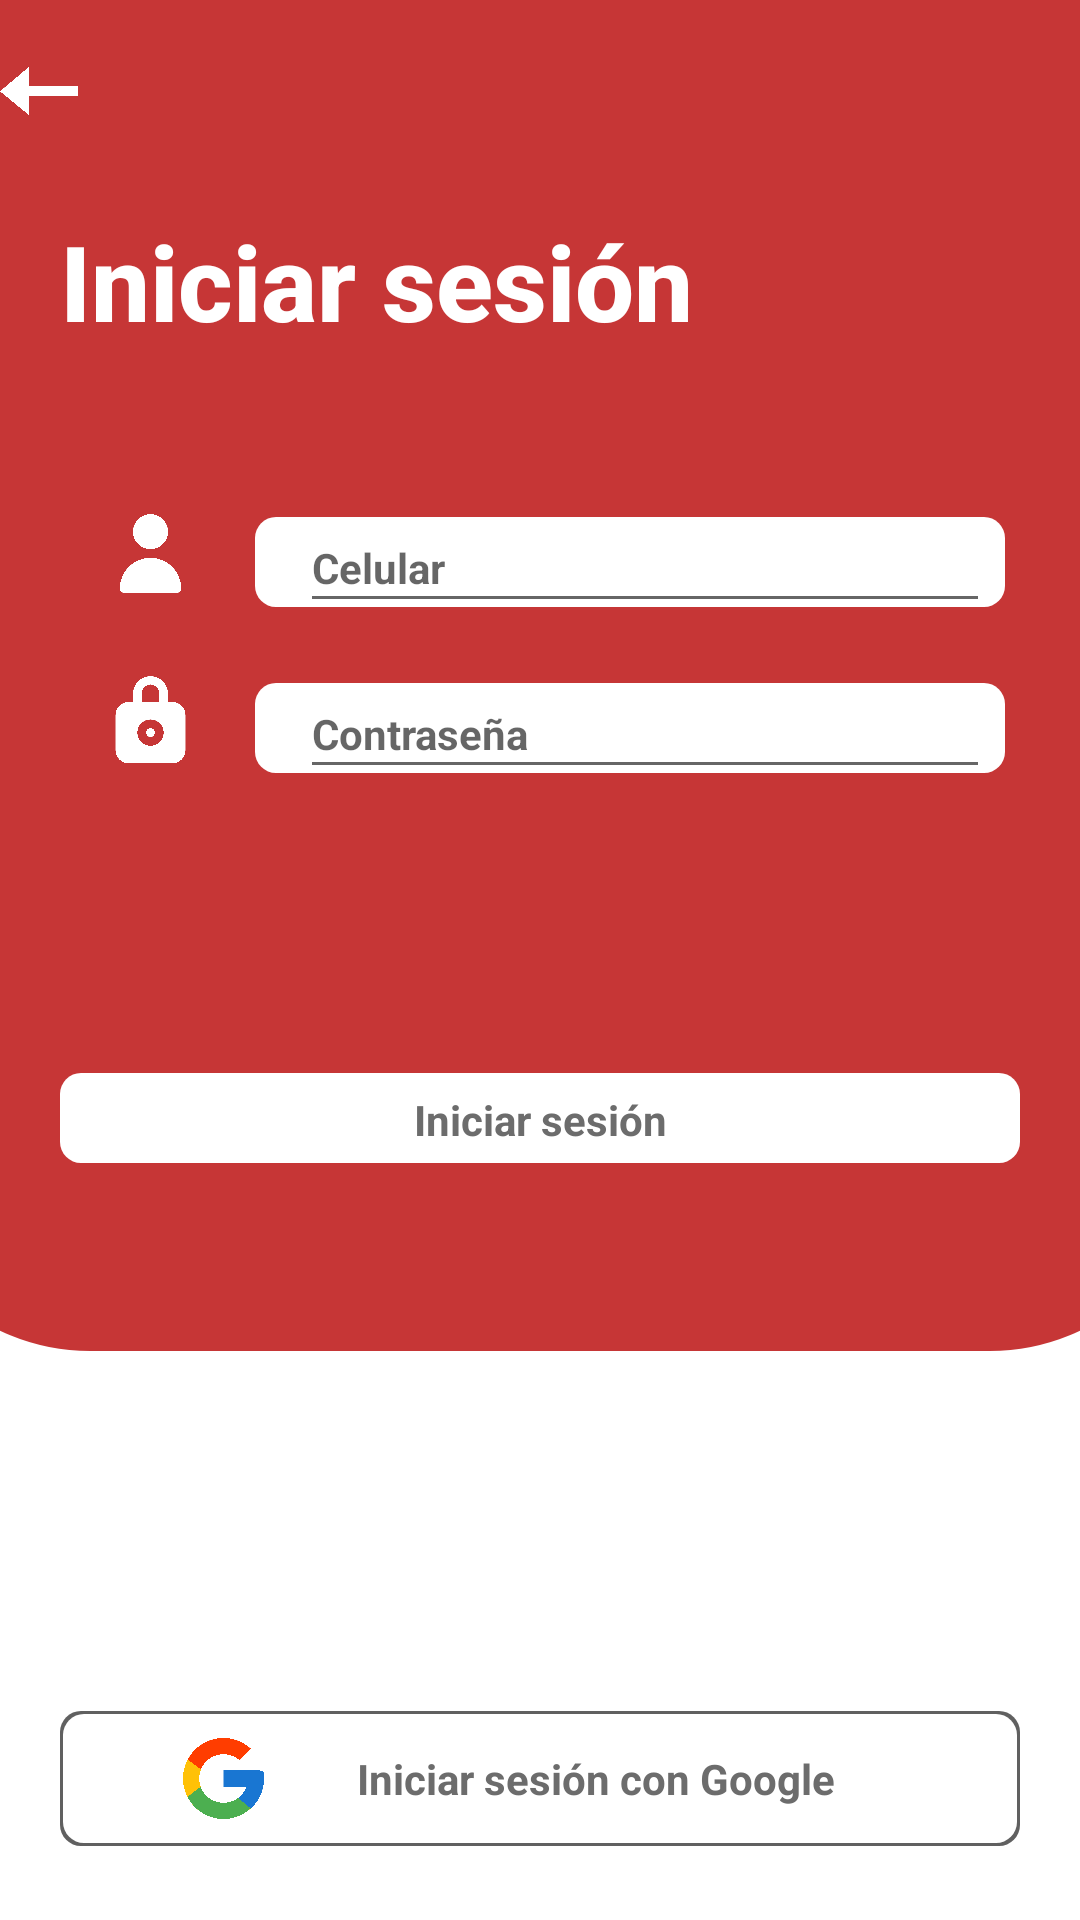

Icons on this 1080*1920 Android screen, each with its box as [left=x1, top=y1, right=x2, bottom=y2]:
zzimg iniciodesesion candado: [left=115, top=676, right=186, bottom=763]
zzimg iniciodesesion flechaback: [left=0, top=67, right=78, bottom=115]
zzimg iniciodesesion persona: [left=120, top=514, right=181, bottom=593]
